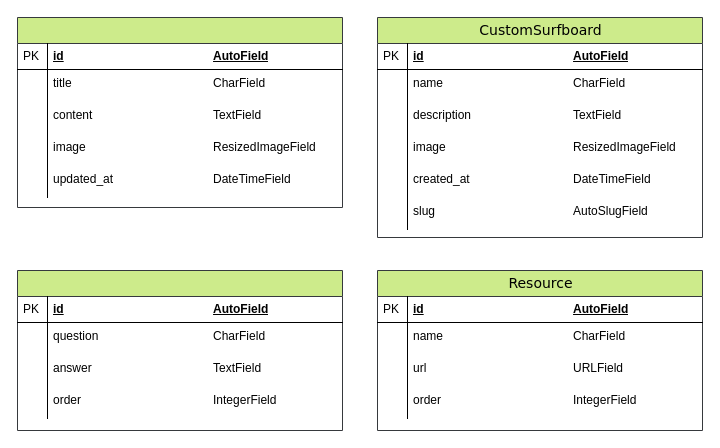
Some shapes in this 720 by 448 pixel diagram are drawn without their labels. Here are the shapes that lost their labels. From the top down, the box of each, then its label:
(16, 16, 342, 208): AboutUs
(16, 270, 342, 430): FAQ
